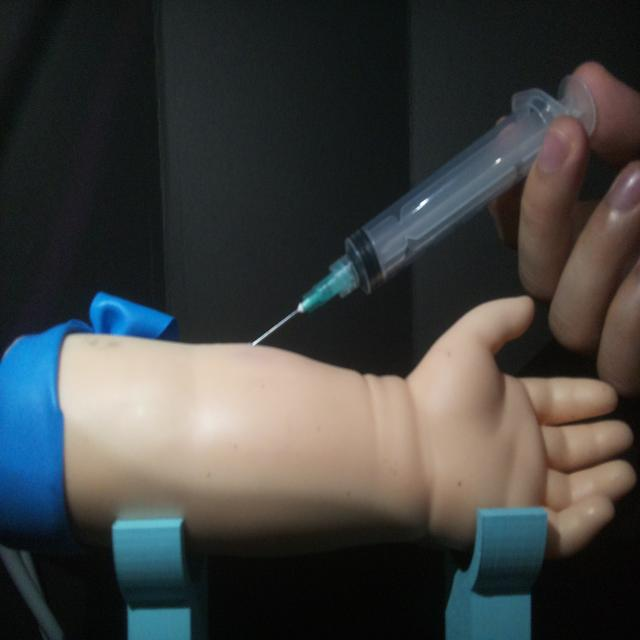28deg: (245, 69, 598, 350)
